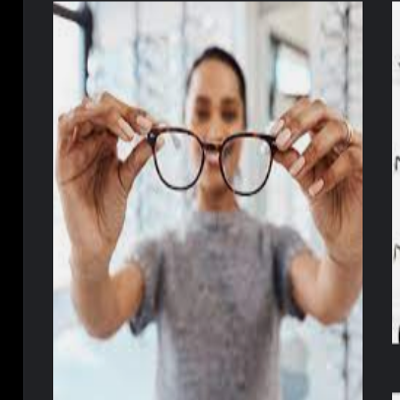glasses: (141, 123, 292, 204)
